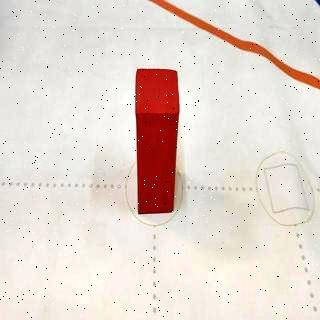redbox: (134, 68, 180, 214)
